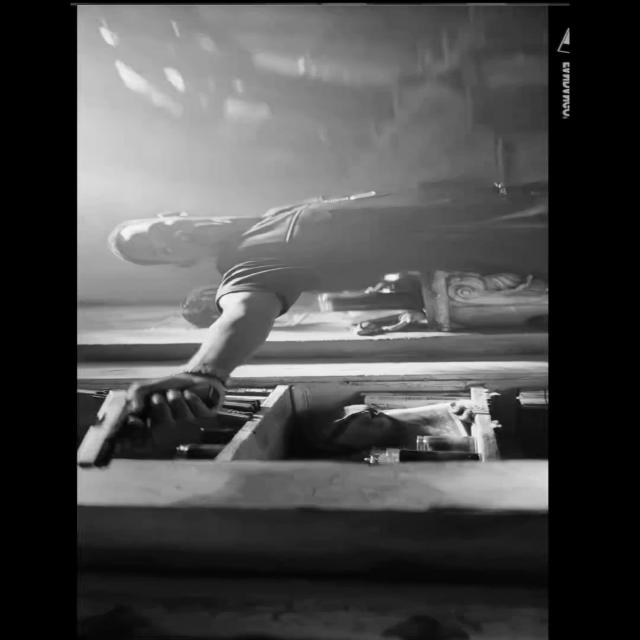weapons: (71, 370, 226, 470)
